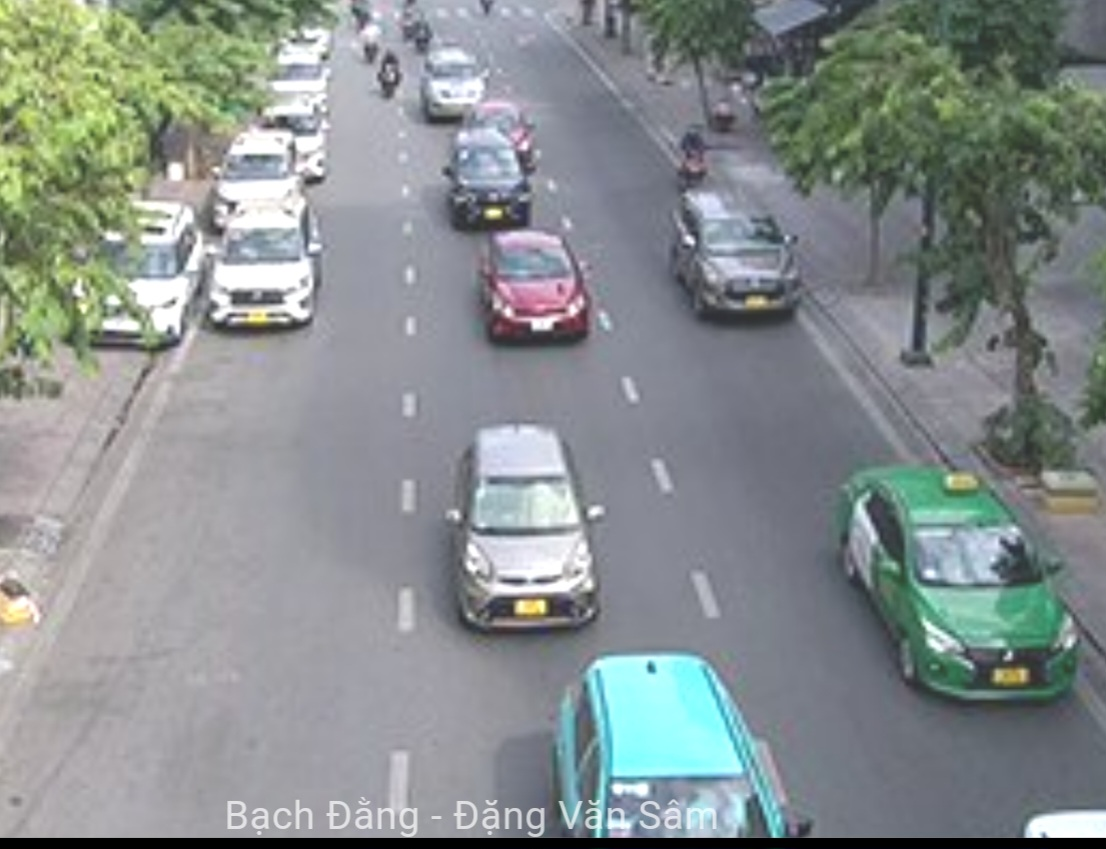car: (833, 467, 1077, 707), (556, 664, 802, 848), (450, 427, 600, 630), (661, 185, 810, 318), (478, 233, 596, 343), (214, 212, 324, 324), (449, 131, 532, 226), (222, 131, 302, 216), (419, 50, 487, 115)
